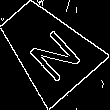N_NW: (15, 16, 80, 80)
